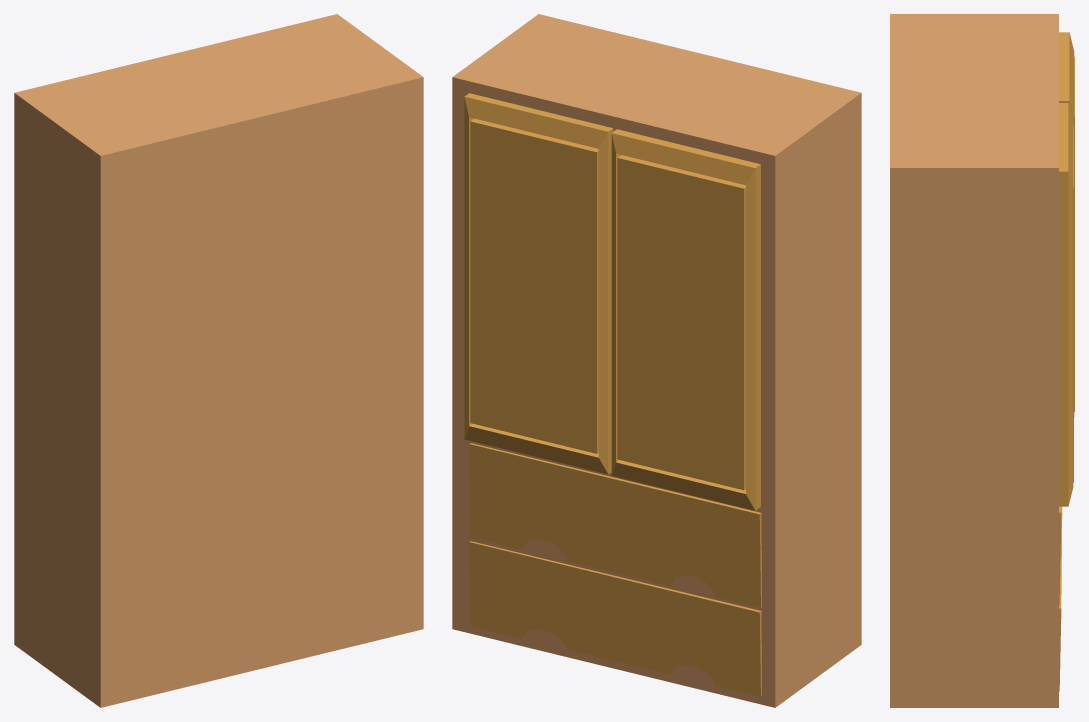
The model's file is ddd.fbx.
3 views of the same model, side by side, from view 1: azimuth 30°, elevation 25°; view 2: azimuth 150°, elevation 25°; view 3: azimuth 270°, elevation 25° (orthographic). The views are drawn at different scales.
Parts seen in each view (by area): view 1: drawer2; view 2: drawer2, door2.002, door1.002, door3, door4; view 3: drawer2, door1.002, door2.002, door4.
Boxes of the visible parts, x1,y1,x2,y2 form: drawer2: [14, 14, 423, 707]; drawer2: [452, 14, 861, 707]; door2.002: [611, 129, 760, 510]; door1.002: [464, 93, 613, 474]; door3: [469, 443, 761, 607]; door4: [469, 541, 761, 696]; drawer2: [890, 14, 1058, 707]; door1.002: [1059, 103, 1073, 506]; door2.002: [1059, 32, 1074, 417]; door4: [1059, 507, 1062, 691].
Size of the model in its own units: 421 by 687 by 213.
